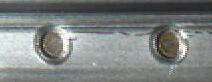joints: (148, 23, 189, 64), (34, 22, 72, 64)
